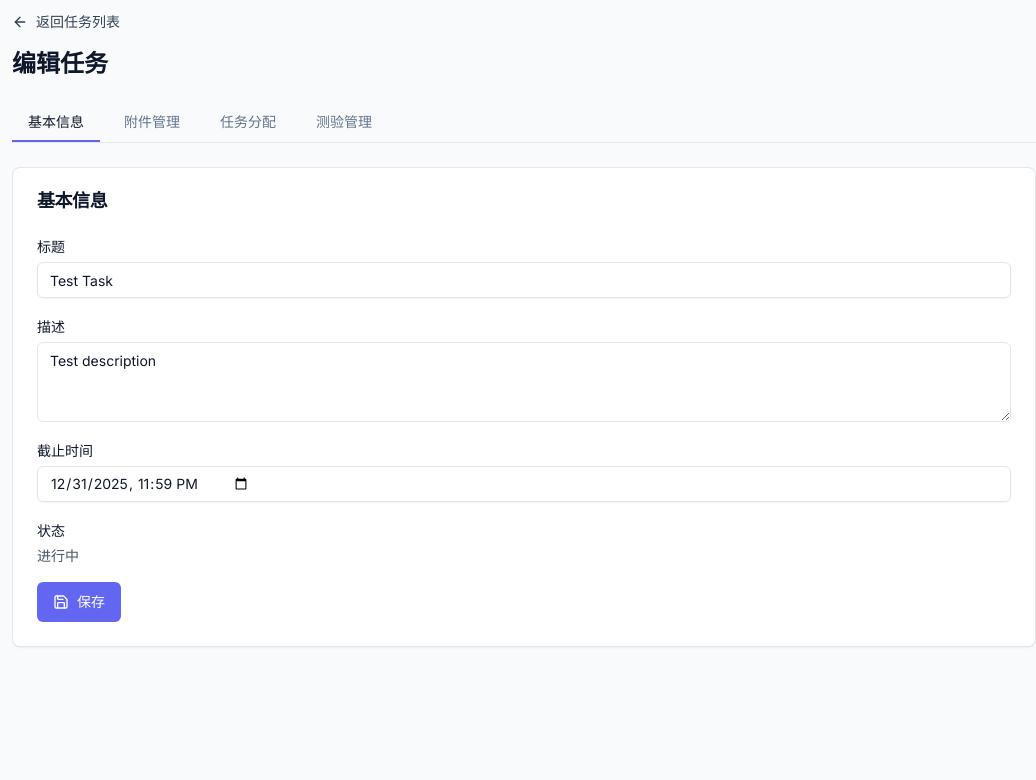
Test: TaskEditor - Enhanced Features › TaskEditor Component Structure › switches to files tab when clicked
This screenshot has width=1036, height=780.
Click the button "附件管理": (152, 123) [108,104,196,142]
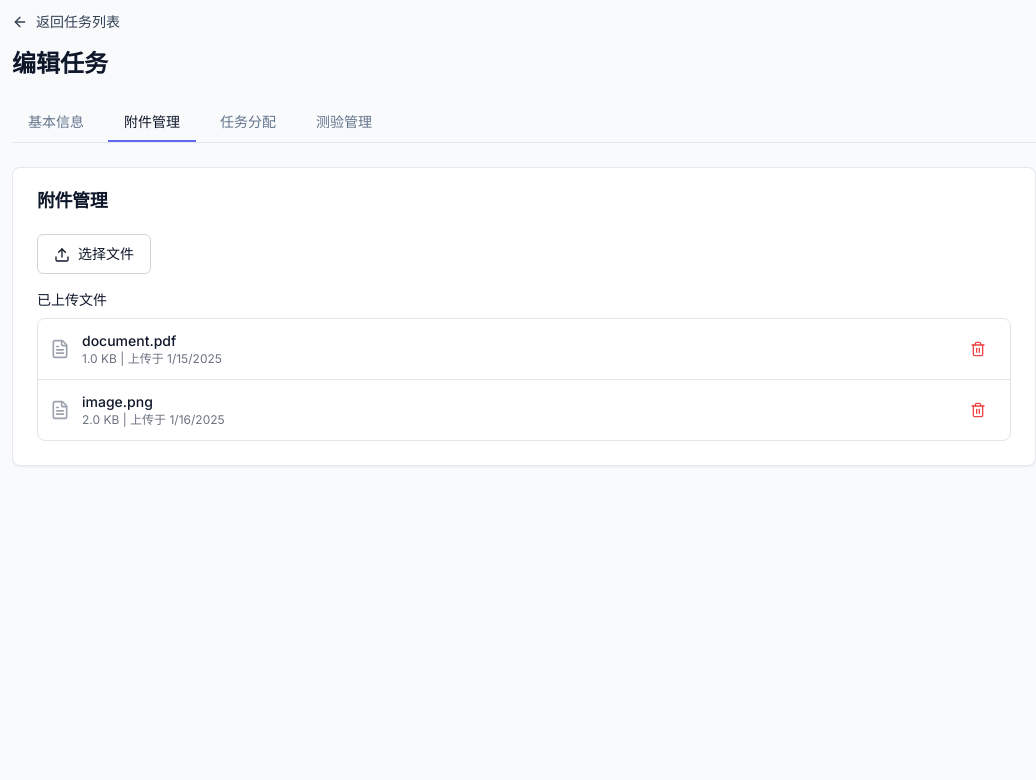
Expected: the text "选择文件" is shown, [54,244,134,264]
